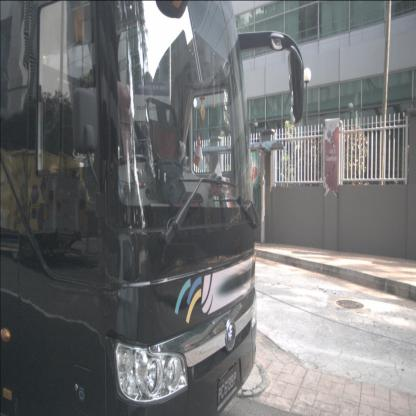vehicle-bus-rigid: (0, 0, 258, 415)
